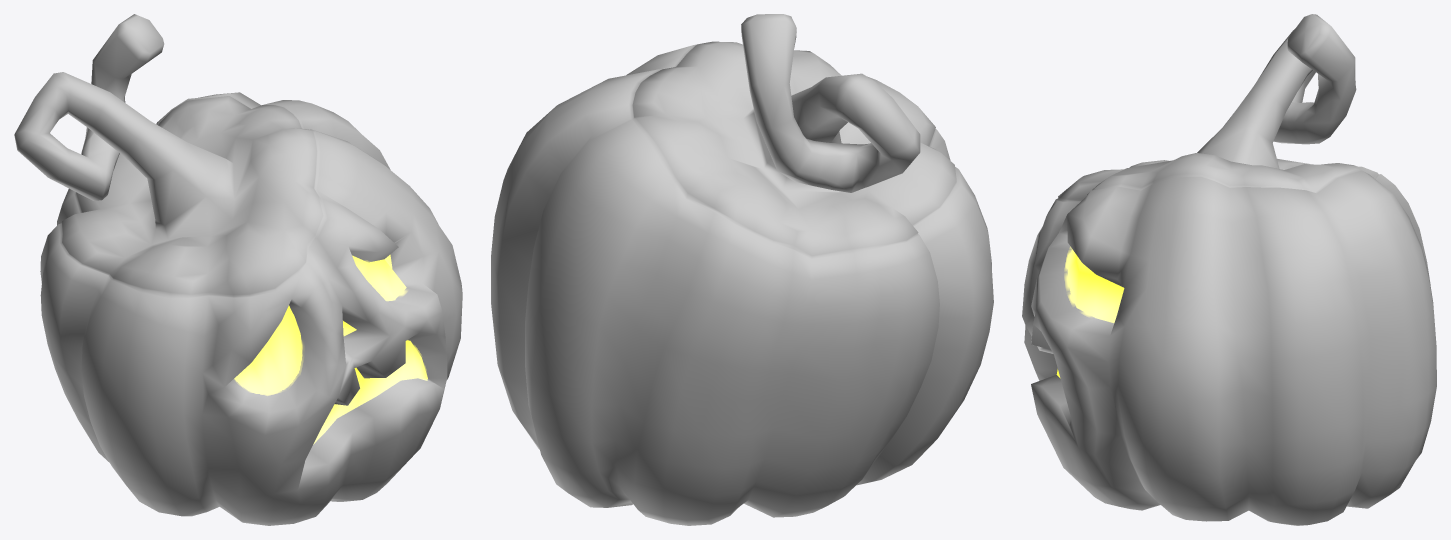
The model's file is ME_Pumpkin03.fbx.
3 renders of one model, left to right at view 1: azimuth 30°, elevation 25°; view 2: azimuth 150°, elevation 25°; view 3: azimuth 270°, elevation 25°, orthographic. The views are drawn at different scales.
Visible parts, largest first — view 1: Pumpkin03; view 2: Pumpkin03; view 3: Pumpkin03.
Boxes of the visible parts, box(x1,y1,x2,y2) form: Pumpkin03: box(14, 14, 462, 525); Pumpkin03: box(491, 14, 993, 525); Pumpkin03: box(1022, 14, 1436, 525).
Size of the model in its own units: 1.52 by 1.71 by 1.48.
